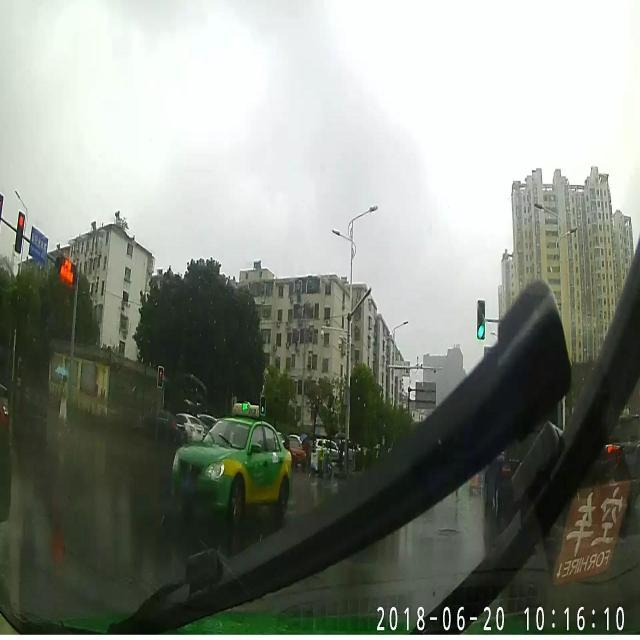car: (170, 406, 291, 516)
